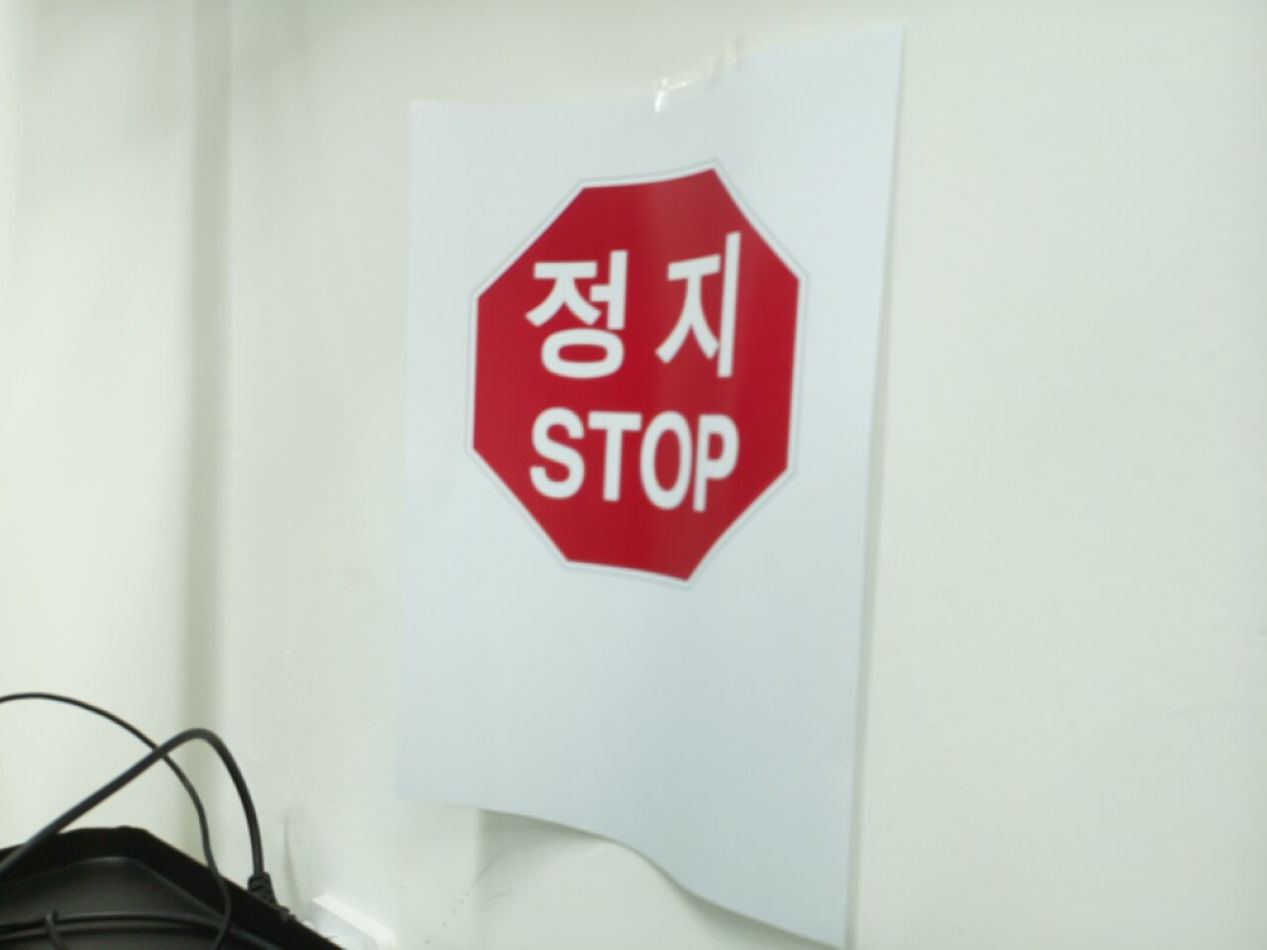stop: (463, 156, 809, 593)
